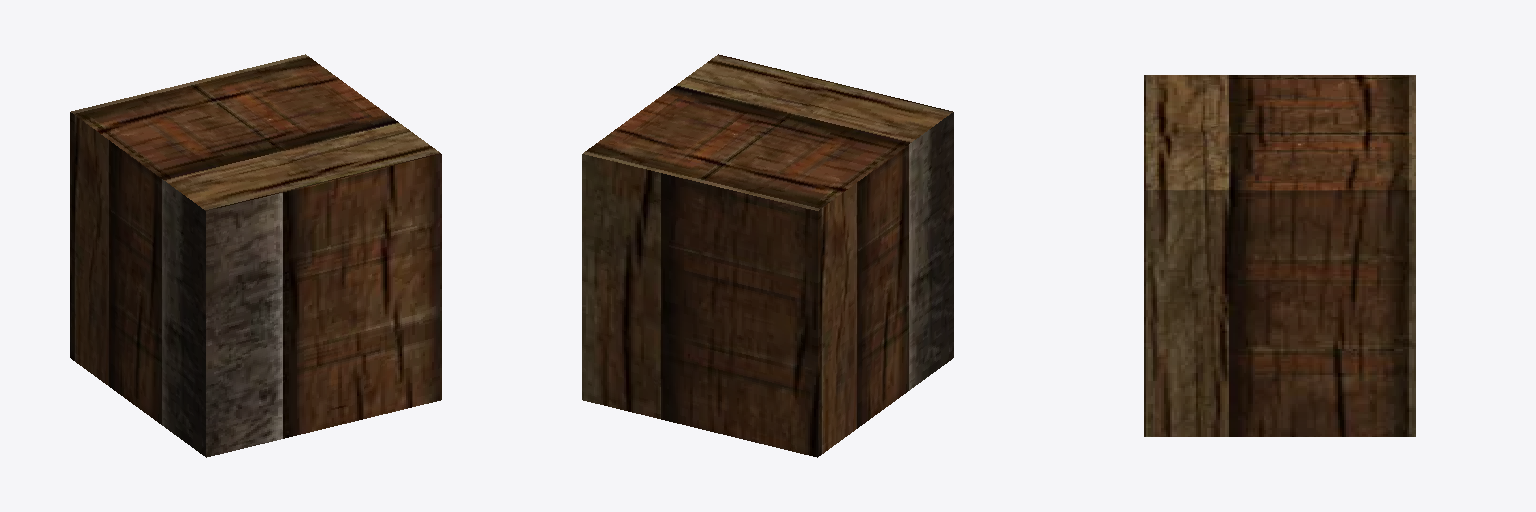
The picture shows the model from 3 angles: view 1: azimuth 30°, elevation 25°; view 2: azimuth 150°, elevation 25°; view 3: azimuth 270°, elevation 25°; orthographic projection.
Parts seen in each view (by area): view 1: Cube; view 2: Cube; view 3: Cube.
Part boxes in pixels (bbox=[...]): Cube: bbox=[70, 54, 441, 457]; Cube: bbox=[582, 54, 953, 457]; Cube: bbox=[1144, 75, 1415, 436].
Size of the model in its own units: 2 by 2 by 2.
1 materials, 1 textured.